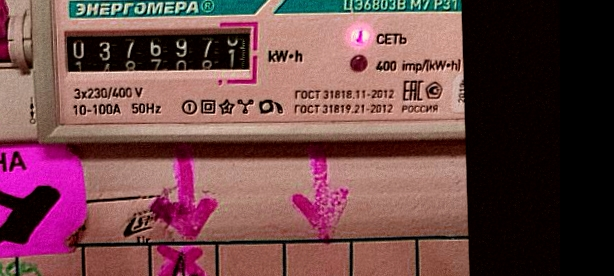0: (70, 38, 86, 59)
1: (226, 47, 238, 69)
3: (97, 39, 112, 62)
6: (149, 36, 162, 57)
7: (123, 35, 136, 60), (200, 35, 213, 58)
9: (174, 36, 187, 58)
screen: (57, 19, 262, 93)
